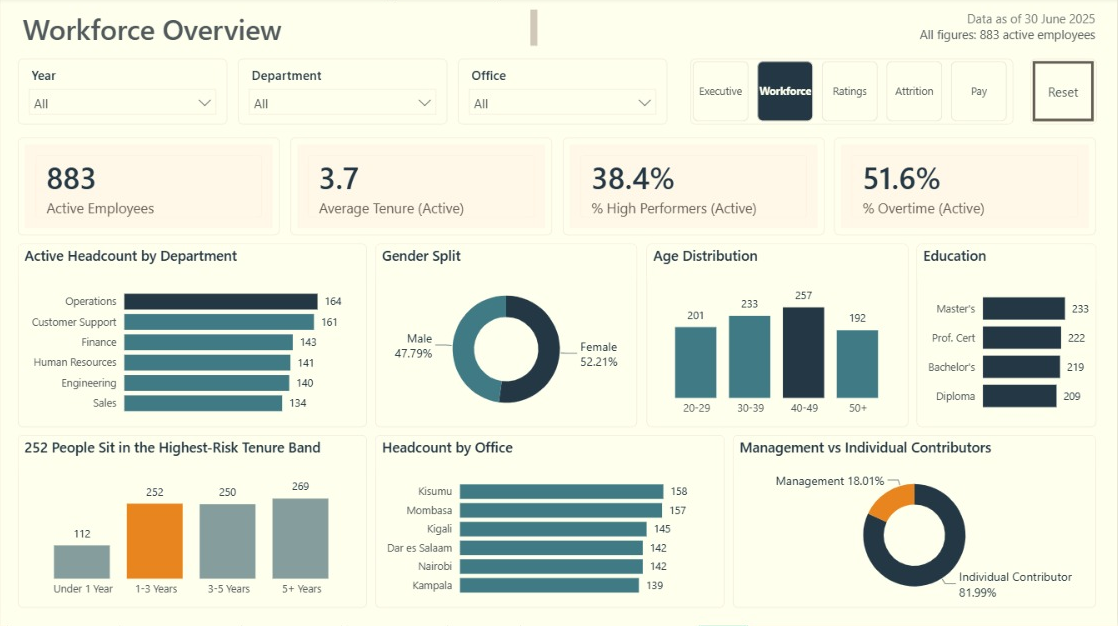

Layout of this report page (visuals, bound fields, positions):
{"tool":"powerbi","page":{"name":"Workforce","canvas":[1280,720],"ordinal":1},"visuals":[{"type":"textbox","box":[1000,8,260,52],"z":0},{"type":"slicer","title":"Department","fields":{"Values":["Employees.Department"]},"box":[272,70,240,75],"z":1000},{"type":"slicer","title":"Department","fields":{"Values":["Employees.Office Location"]},"box":[524,70,240,75],"z":2000},{"type":"slicer","title":"Department","fields":{"Values":["Date Table.Year"]},"box":[20,70,240,75],"z":3000},{"type":"textbox","box":[20,8,600,52],"z":4000},{"type":"cardVisual","fields":{"Data":["_Measures.Active Employees"]},"box":[20,160,300,112],"z":5000},{"type":"cardVisual","fields":{"Data":["_Measures.Average Tenure (Active)"]},"box":[332,160,300,112],"z":6000},{"type":"cardVisual","fields":{"Data":["_Measures.% High Performers (Active)"]},"box":[644,160,300,112],"z":7000},{"type":"cardVisual","fields":{"Data":["_Measures.% Overtime (Active)"]},"box":[956,160,300,112],"z":8000},{"type":"clusteredBarChart","title":"Active Headcount by Department","fields":{"Category":["Employees.Department"],"Y":["_Measures.Active Employees"]},"box":[20,282,400,210],"z":9000},{"type":"donutChart","title":"Gender Split","fields":{"Category":["Employees.Gender"],"Y":["_Measures.Active Employees"]},"box":[430,282,300,210],"z":10000},{"type":"clusteredColumnChart","title":"Age Distribution","fields":{"Category":["Employees.Age Band"],"Y":["_Measures.Active Employees"]},"box":[740,282,300,210],"z":11000},{"type":"clusteredBarChart","title":"Education","fields":{"Y":["_Measures.Active Employees"],"Category":["Employees.Education Short"]},"box":[1050,282,206,210],"z":12000},{"type":"clusteredColumnChart","title":"252 People Sit in the Highest-Risk Tenure Band","fields":{"Category":["Employees.Tenure Band"],"Y":["_Measures.Active Employees"]},"box":[20,502,400,198],"z":13000},{"type":"clusteredBarChart","title":"Headcount by Office","fields":{"Category":["Employees.Office Location"],"Y":["_Measures.Active Employees"]},"box":[430,502,400,198],"z":14000},{"type":"donutChart","title":"Management vs Individual Contributors","fields":{"Category":["Employees.Role Category"],"Y":["_Measures.Active Employees"]},"box":[840,502,416,198],"z":15000},{"type":"actionButton","box":[1180,70,76,75],"z":16000},{"type":"pageNavigator","box":[790,70,370,75],"z":17000}]}

Visuals, with their boxes in screenshot pixels (x1, y1, x2, y2), scaled from the page's 1280x720 canvas onto the 1118x626 screenshot:
textbox: l=873, t=7, r=1101, b=52
"Department" slicer: l=238, t=61, r=447, b=126
"Department" slicer: l=458, t=61, r=667, b=126
"Department" slicer: l=17, t=61, r=227, b=126
textbox: l=17, t=7, r=542, b=52
cardVisual - _Measures.Active Employees: l=17, t=139, r=280, b=236
cardVisual - _Measures.Average Tenure (Active): l=290, t=139, r=552, b=236
cardVisual - _Measures.% High Performers (Active): l=562, t=139, r=825, b=236
cardVisual - _Measures.% Overtime (Active): l=835, t=139, r=1097, b=236
"Active Headcount by Department" clusteredBarChart: l=17, t=245, r=367, b=428
"Gender Split" donutChart: l=376, t=245, r=638, b=428
"Age Distribution" clusteredColumnChart: l=646, t=245, r=908, b=428
"Education" clusteredBarChart: l=917, t=245, r=1097, b=428
"252 People Sit in the Highest-Risk Tenure Band" clusteredColumnChart: l=17, t=436, r=367, b=609
"Headcount by Office" clusteredBarChart: l=376, t=436, r=725, b=609
"Management vs Individual Contributors" donutChart: l=734, t=436, r=1097, b=609
actionButton: l=1031, t=61, r=1097, b=126
pageNavigator: l=690, t=61, r=1013, b=126
